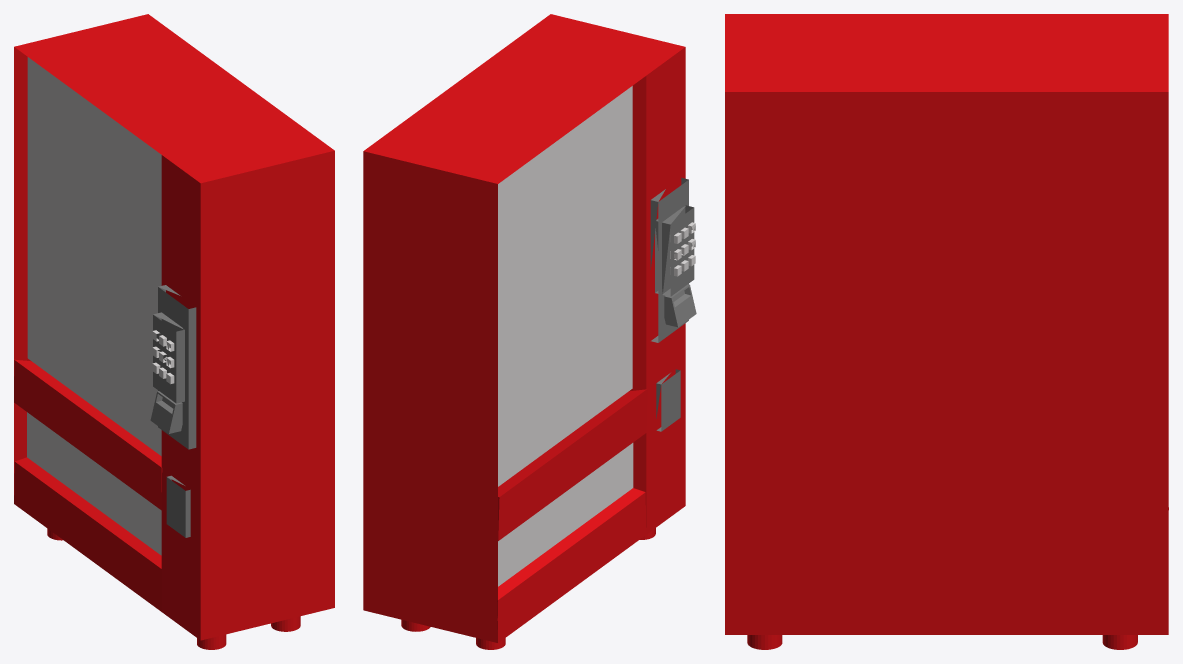
The model's file is vending_machine_web.glb.
3 views of the same model, side by side, from view 1: azimuth 30°, elevation 25°; view 2: azimuth 150°, elevation 25°; view 3: azimuth 270°, elevation 25° (orthographic). The views are drawn at different scales.
Parts seen in each view (by area): view 1: VendingMachinePart1, VendingMachinePart14, VendingMachinePart15, VendingMachinePart4, VendingMachinePart5, VendingMachinePart8, VendingMachinePart7, VendingMachinePart2, VendingMachinePart6; view 2: VendingMachinePart1, VendingMachinePart14, VendingMachinePart15, VendingMachinePart4, VendingMachinePart5, VendingMachinePart8, VendingMachinePart7, VendingMachinePart6, VendingMachinePart2; view 3: VendingMachinePart1, VendingMachinePart2.
Part boxes in pixels (left/top/right/bottom): VendingMachinePart1: left=14, top=14, right=334, bottom=640; VendingMachinePart14: left=27, top=57, right=161, bottom=455; VendingMachinePart15: left=27, top=412, right=161, bottom=555; VendingMachinePart4: left=158, top=285, right=196, bottom=449; VendingMachinePart5: left=153, top=312, right=184, bottom=403; VendingMachinePart8: left=166, top=475, right=190, bottom=537; VendingMachinePart7: left=150, top=391, right=182, bottom=433; VendingMachinePart2: left=47, top=528, right=300, bottom=649; VendingMachinePart6: left=152, top=330, right=174, bottom=384; VendingMachinePart1: left=363, top=14, right=685, bottom=642; VendingMachinePart14: left=498, top=86, right=632, bottom=486; VendingMachinePart15: left=498, top=443, right=633, bottom=586; VendingMachinePart4: left=650, top=177, right=688, bottom=342; VendingMachinePart5: left=655, top=205, right=694, bottom=296; VendingMachinePart8: left=656, top=369, right=680, bottom=431; VendingMachinePart7: left=664, top=284, right=696, bottom=327; VendingMachinePart6: left=670, top=222, right=695, bottom=276; VendingMachinePart2: left=401, top=528, right=655, bottom=649; VendingMachinePart1: left=725, top=14, right=1168, bottom=634; VendingMachinePart2: left=747, top=635, right=1137, bottom=649.
Size of the model in its own units: 0.7137 by 2.1 by 1.48.
